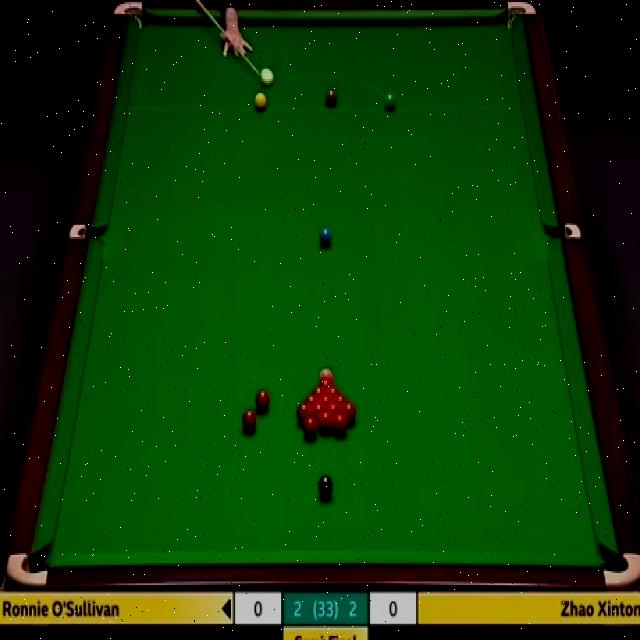black-ball: (316, 472, 332, 498)
blue-ball: (318, 228, 332, 245)
brown-ball: (325, 89, 337, 108)
green-ball: (382, 90, 398, 112)
pink-ball: (319, 368, 334, 383)
red-ball: (300, 416, 319, 438), (318, 410, 333, 432), (242, 409, 256, 432), (339, 402, 355, 422), (333, 414, 347, 436), (255, 390, 270, 410), (327, 403, 341, 424), (297, 402, 310, 424), (306, 394, 317, 406), (320, 395, 331, 407), (320, 380, 330, 392)
white-ball: (262, 68, 273, 89)
yellow-ball: (254, 91, 267, 112)
